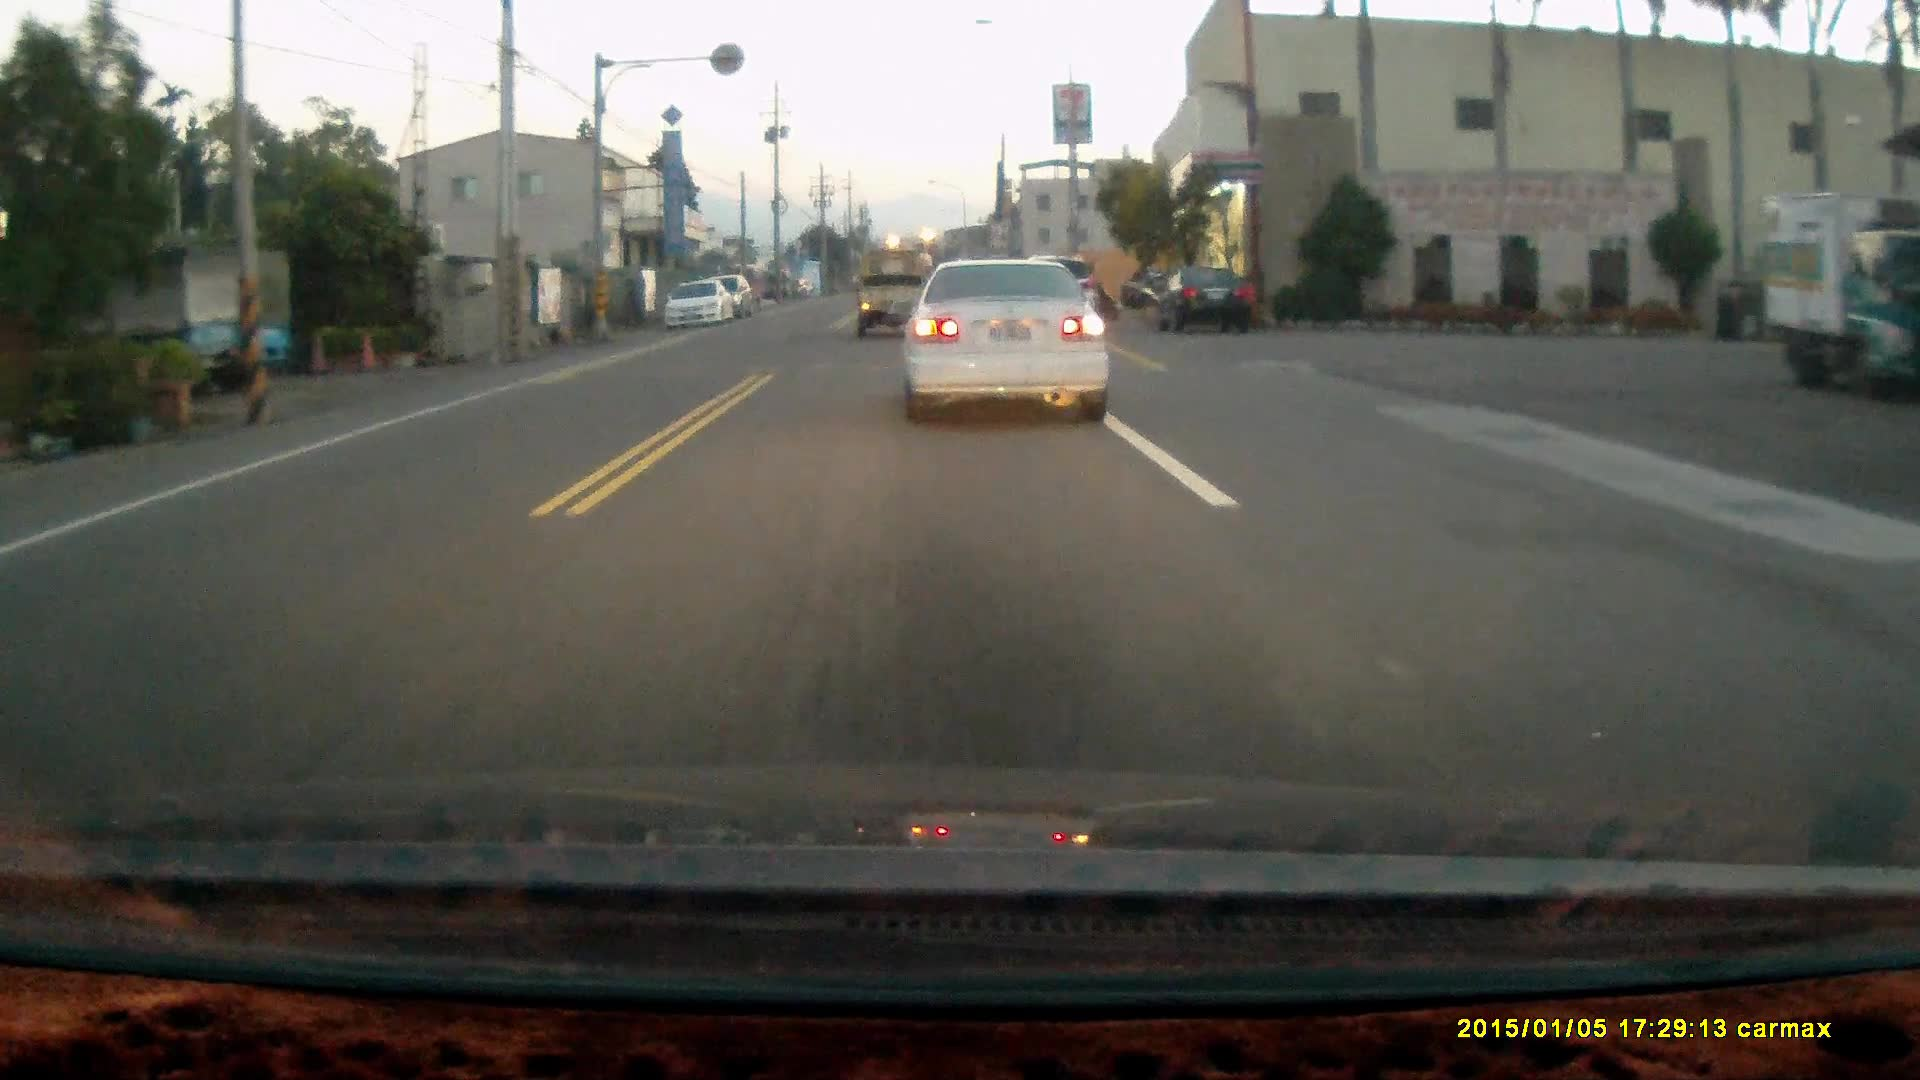vehicle: (905, 257, 1114, 429), (1755, 194, 1920, 407), (1146, 266, 1259, 334), (855, 257, 930, 343), (657, 276, 738, 335)
